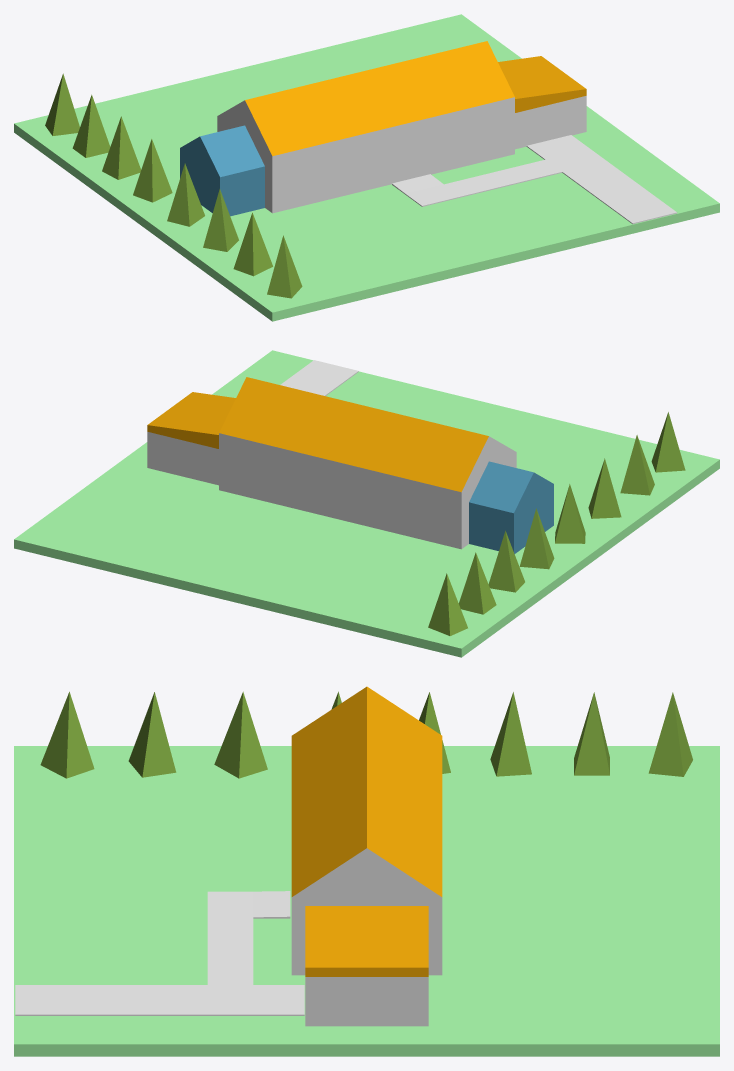
Rendered from house4_l.fbx.
3 views of the same model, one above another, from view 1: azimuth 30°, elevation 25°; view 2: azimuth 150°, elevation 25°; view 3: azimuth 270°, elevation 25° (orthographic). The views are drawn at different scales.
Visible parts, largest first — view 1: Cube, Cube.004, Cube.001, tree_L.004, tree_L.005, tree_L.001, tree_L.006, tree_L.003, tree_L.007, tree_L.002, tree_L; view 2: Cube, Cube.004, Cube.001, tree_L.007, tree_L.006, tree_L.005, tree_L.004, tree_L.001, tree_L, tree_L.002, tree_L.003; view 3: Cube, Cube.004, Cube.001, tree_L, tree_L.002, tree_L.001, tree_L.007, tree_L.005, tree_L.006, tree_L.004.
Boxes of the visible parts, x1,y1,x2,y2 form: Cube: [14, 14, 719, 321]; Cube.004: [180, 41, 586, 216]; Cube.001: [392, 135, 677, 224]; tree_L.004: [133, 139, 172, 202]; tree_L.005: [102, 116, 140, 179]; tree_L.001: [233, 212, 272, 276]; tree_L.006: [72, 94, 110, 157]; tree_L.003: [167, 163, 204, 226]; tree_L.007: [45, 73, 79, 135]; tree_L.002: [203, 189, 238, 251]; tree_L: [267, 235, 302, 298]; Cube: [14, 350, 719, 657]; Cube.004: [147, 377, 553, 553]; Cube.001: [280, 360, 358, 395]; tree_L.007: [428, 573, 467, 635]; tree_L.006: [458, 552, 496, 614]; tree_L.005: [488, 530, 524, 592]; tree_L.004: [519, 508, 554, 569]; tree_L.001: [620, 435, 654, 495]; tree_L: [651, 412, 685, 472]; tree_L.002: [588, 458, 621, 518]; tree_L.003: [555, 484, 585, 543]; Cube: [14, 746, 719, 1056]; Cube.004: [291, 686, 442, 1026]; Cube.001: [15, 891, 304, 1015]; tree_L: [40, 691, 94, 778]; tree_L.002: [214, 691, 267, 778]; tree_L.001: [128, 692, 176, 777]; tree_L.007: [648, 692, 692, 776]; tree_L.005: [490, 692, 531, 776]; tree_L.006: [574, 692, 609, 775]; tree_L.004: [419, 692, 450, 773].
Bounding box in the file's own units: 26 × 26 × 5.71.
3 materials, 3 textured.
